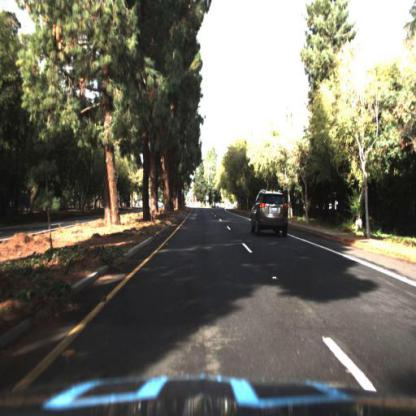car: (249, 191, 290, 241)
